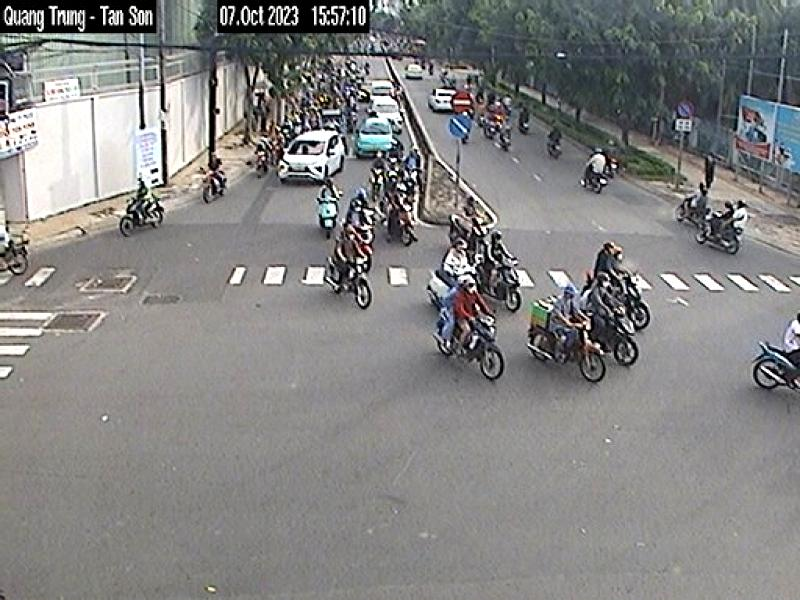car: (272, 122, 338, 192), (351, 114, 392, 172), (362, 91, 407, 128)
motorcycle: (511, 304, 606, 408), (409, 287, 498, 386), (557, 301, 661, 365), (523, 273, 658, 316), (314, 246, 376, 308), (732, 333, 798, 388)
